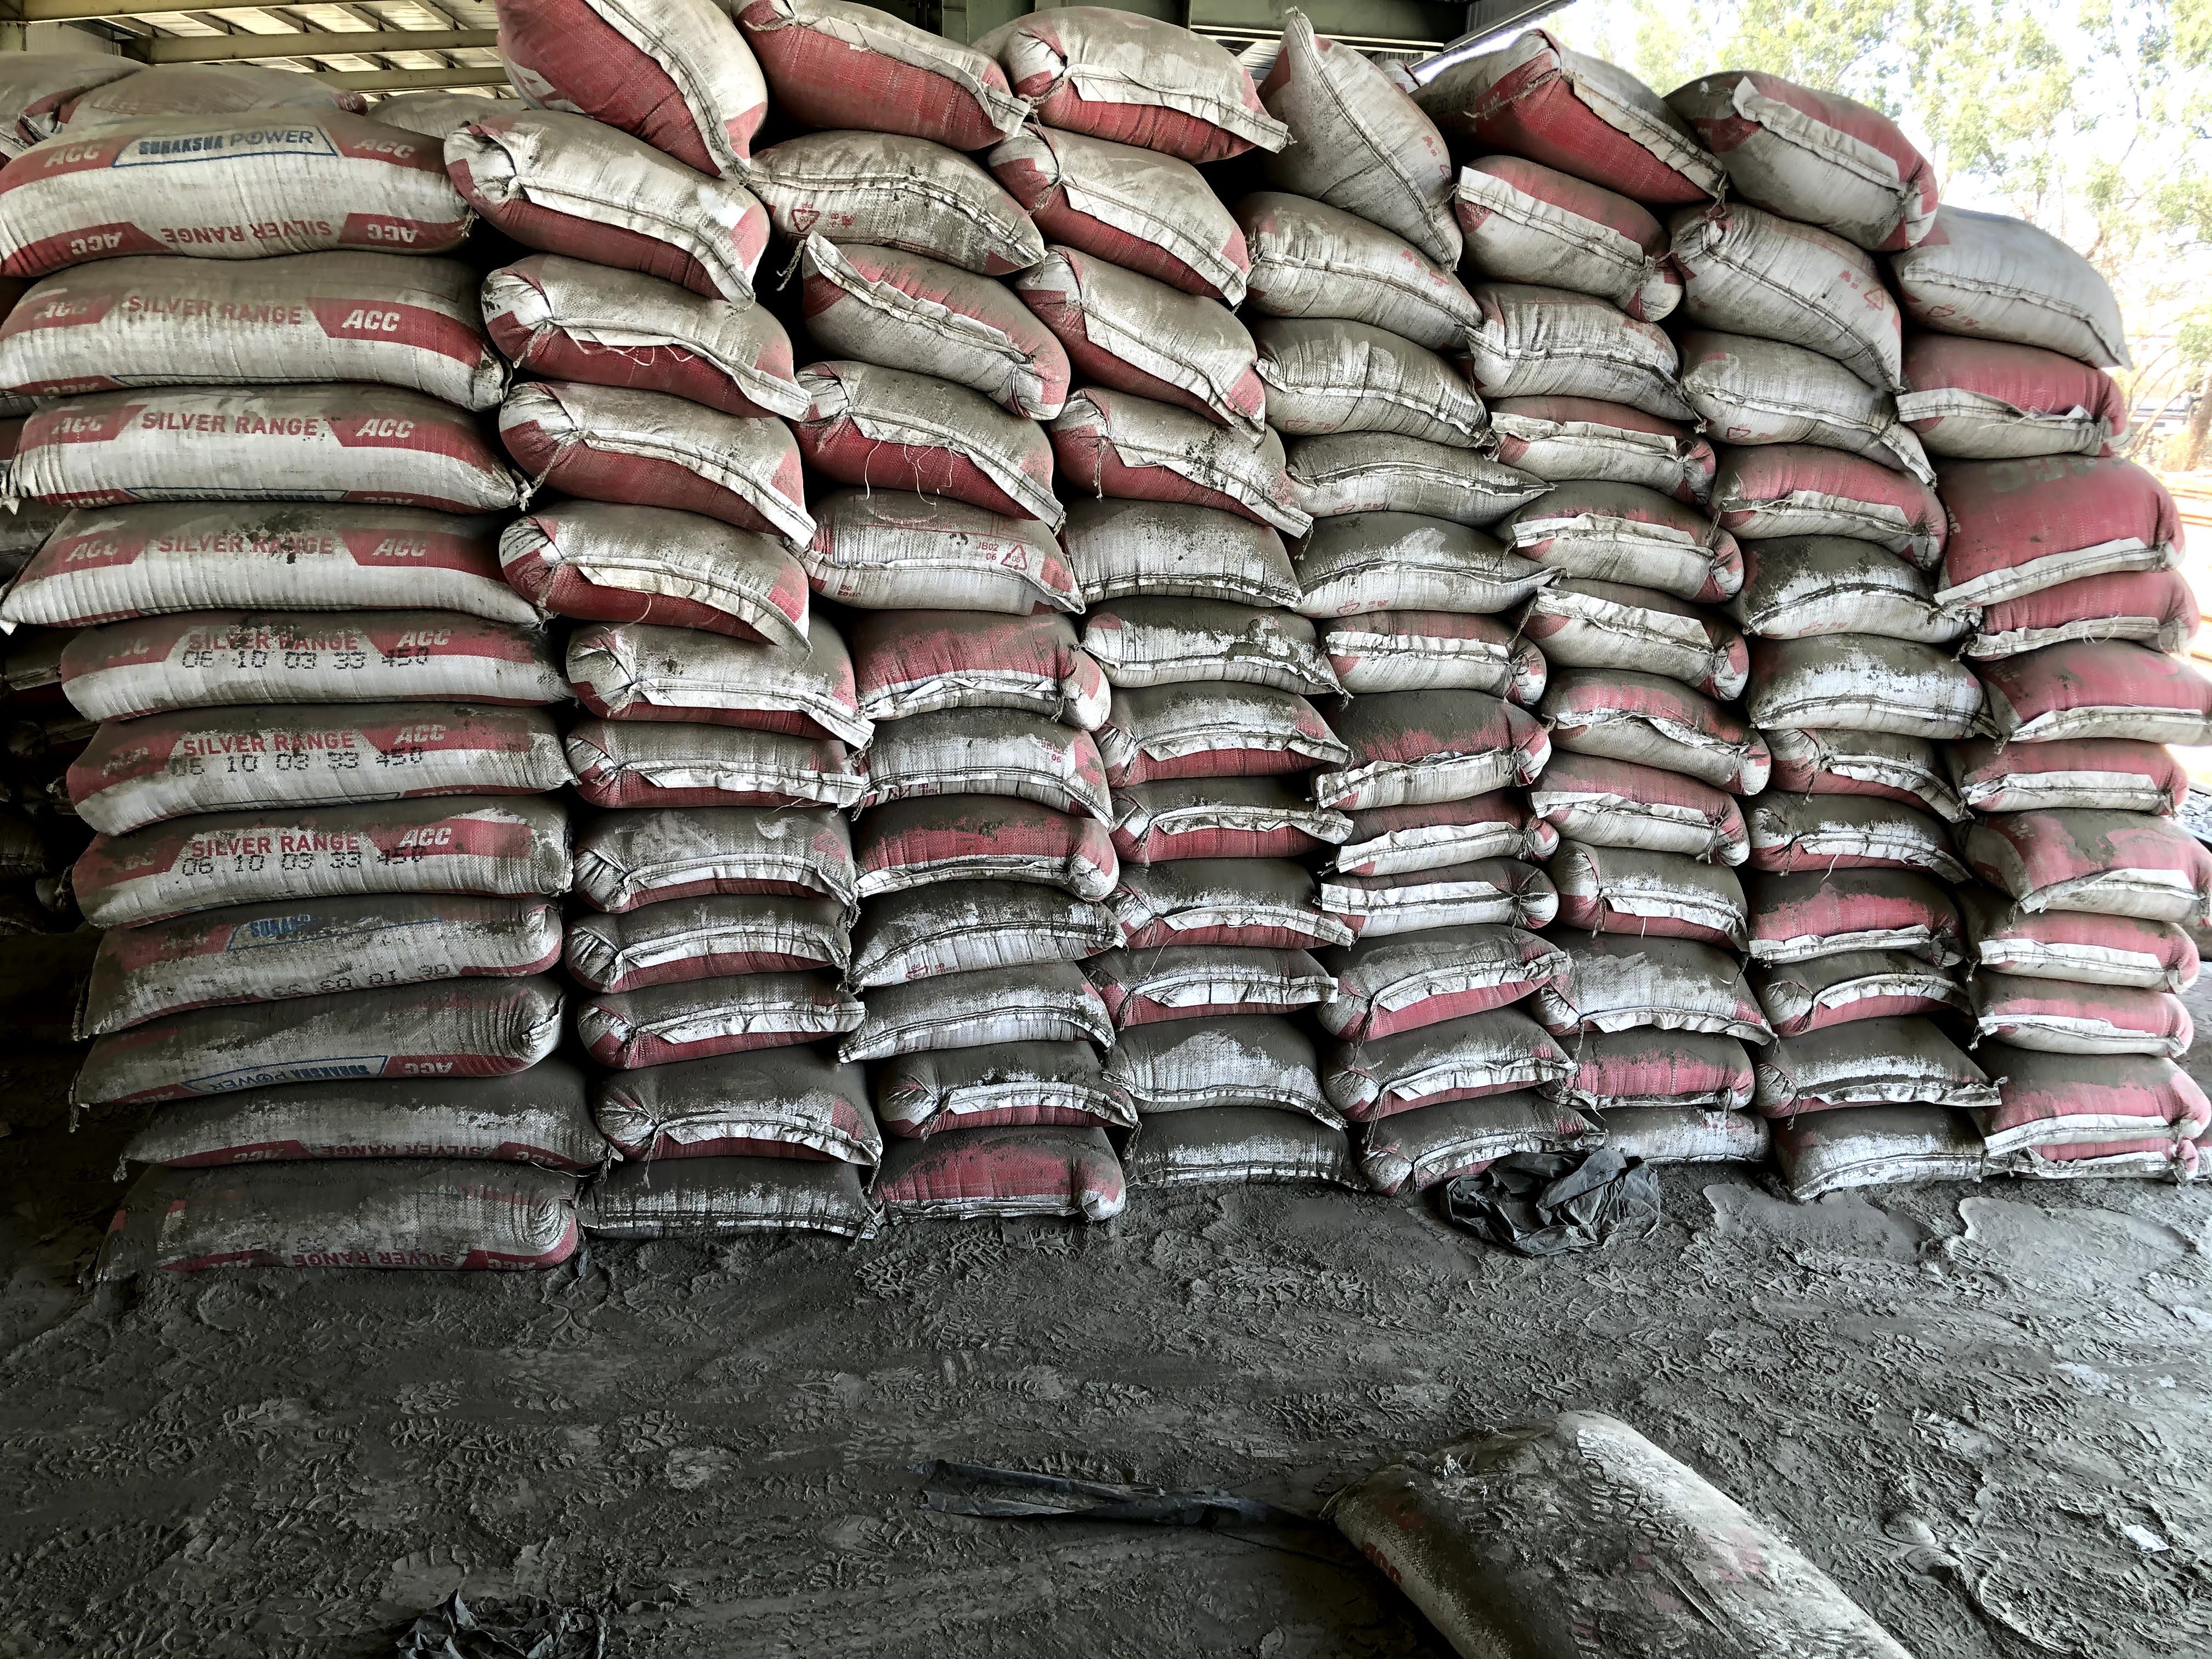cement bag: (16, 101, 482, 258), (103, 915, 564, 1042), (45, 483, 507, 599), (78, 592, 526, 704), (82, 814, 564, 915), (82, 704, 526, 814), (45, 369, 470, 483), (37, 263, 470, 369), (503, 98, 789, 251), (1709, 54, 1939, 230), (817, 220, 1062, 383), (87, 1173, 589, 1253), (1263, 16, 1461, 211), (545, 512, 822, 652), (521, 260, 759, 420), (1916, 202, 2127, 369), (833, 361, 1052, 509), (798, 488, 1071, 603), (1710, 193, 1909, 350), (150, 1101, 556, 1176), (1261, 296, 1489, 425), (1914, 369, 2127, 498), (1491, 279, 1695, 411), (103, 1042, 556, 1101), (1038, 16, 1256, 134), (838, 603, 1071, 713), (1122, 770, 1343, 880), (1082, 246, 1247, 392), (1324, 674, 1540, 786), (838, 713, 1096, 805), (1534, 493, 1719, 617), (592, 728, 833, 823), (1514, 58, 1658, 211), (1700, 335, 1897, 444), (1987, 990, 2202, 1089), (855, 1148, 1090, 1237), (1094, 483, 1289, 589), (1740, 1025, 1972, 1114), (1986, 650, 2182, 755), (545, 420, 759, 512), (1082, 134, 1256, 246), (1914, 498, 2186, 570), (874, 910, 1165, 976), (789, 169, 1024, 251), (617, 1063, 885, 1133), (1367, 1023, 1562, 1119), (1324, 592, 1548, 674), (592, 1168, 855, 1237), (1310, 516, 1548, 592), (1334, 786, 1540, 875), (880, 805, 1096, 889), (1104, 589, 1289, 685), (592, 652, 822, 728), (885, 1063, 1090, 1148), (1987, 1089, 2202, 1171), (1261, 211, 1461, 296), (1573, 866, 1740, 967), (1998, 755, 2182, 843), (1310, 425, 1489, 516), (1153, 1025, 1315, 1124), (1986, 570, 2186, 650), (1752, 728, 1949, 809), (613, 823, 833, 894), (1129, 697, 1343, 770), (1998, 843, 2174, 929), (1747, 633, 1940, 709), (1366, 948, 1562, 1023), (1773, 547, 1940, 633), (1778, 890, 1963, 967), (1771, 444, 1939, 528), (1768, 819, 1963, 890), (1094, 392, 1247, 483), (1113, 875, 1334, 938), (1573, 775, 1721, 866), (1129, 1124, 1315, 1195), (1534, 411, 1695, 493), (890, 1006, 1115, 1061), (1151, 951, 1320, 1019), (1987, 929, 2174, 990), (1491, 211, 1658, 279), (1585, 694, 1721, 775), (1585, 617, 1719, 694), (617, 918, 833, 965), (604, 981, 876, 1018), (1592, 967, 1740, 1033), (1810, 971, 1972, 1025), (1573, 1056, 1738, 1105), (1848, 1114, 1987, 1171), (1362, 880, 1538, 924), (1409, 1114, 1576, 1157), (1576, 1121, 1747, 1157)
